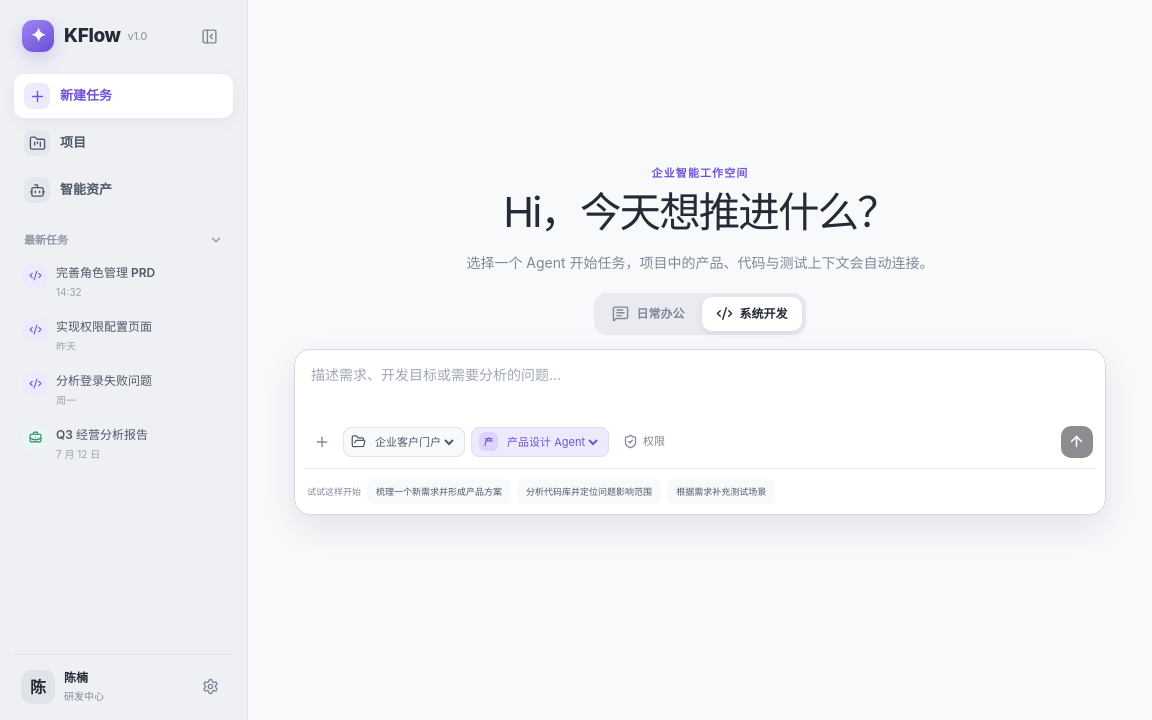
it: enterprise AI client demo › keeps unscoped office work editable without a selected project
Click the button with aria-label "办公任务：Q3 经营分析报告7 月 12 日": (109, 444) [14, 418, 204, 470]
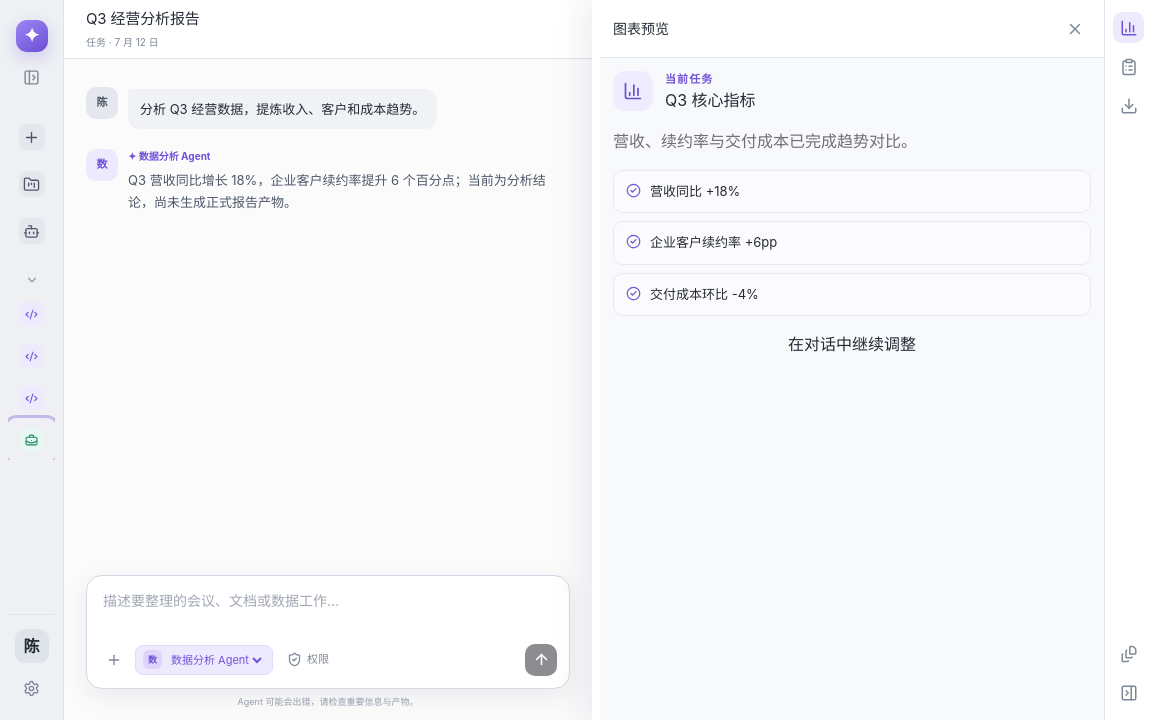
Expected: the heading "Q3 经营分析报告" is shown, [86, 8, 200, 30]
Expected: the text "任务 · 7 月 12 日" is shown, [86, 36, 159, 48]
Expected: the text "Q3 营收同比增长 18%，企业客户续约率提升 6 个百分点；当前为分析结论，尚未生成正式报告产物。" is shown, [128, 169, 570, 213]
In the text box named "任务输入": (328, 616) [99, 588, 557, 644], type "总结本季度趋势"
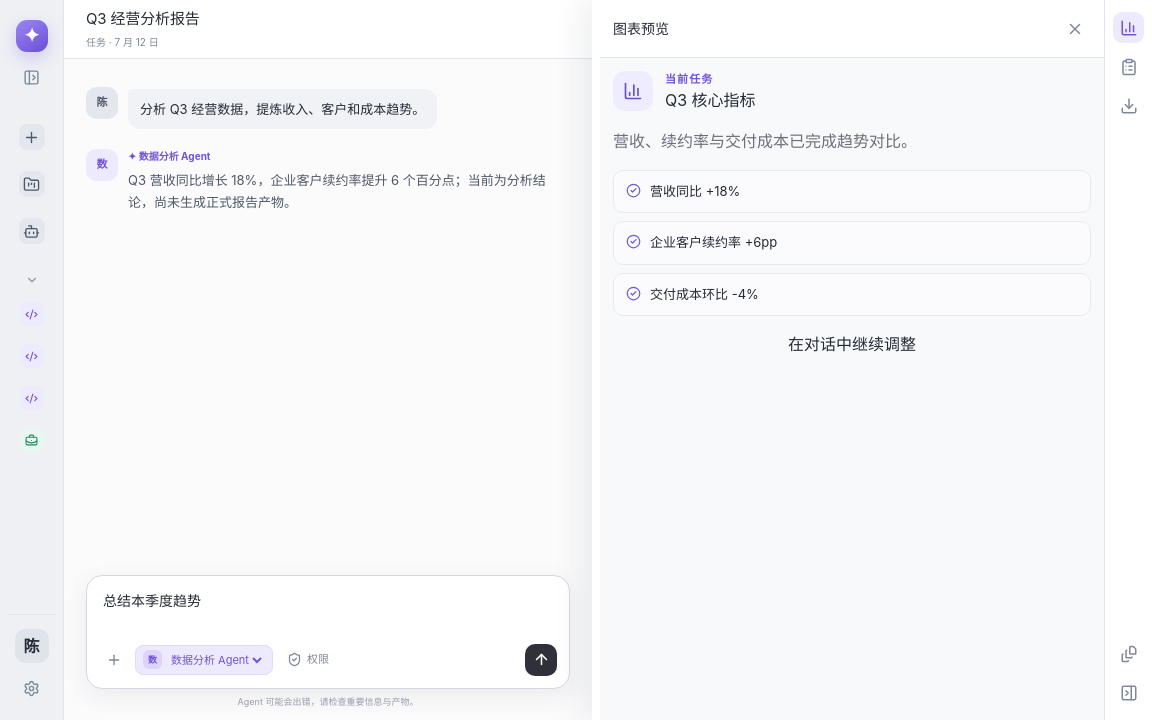
Click the button named "发送": (541, 660) [525, 644, 557, 676]
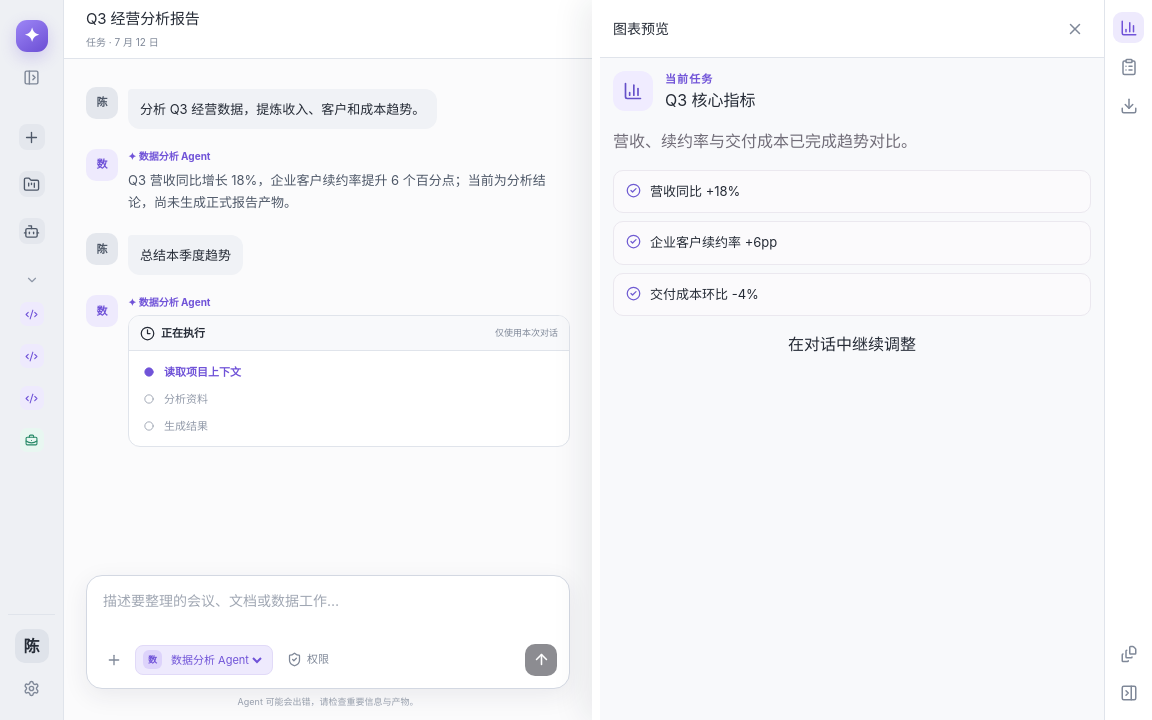
Expected: the text "总结本季度趋势" is shown, [128, 235, 243, 275]
Expected: the text "读取项目上下文" is shown, [144, 365, 241, 379]
